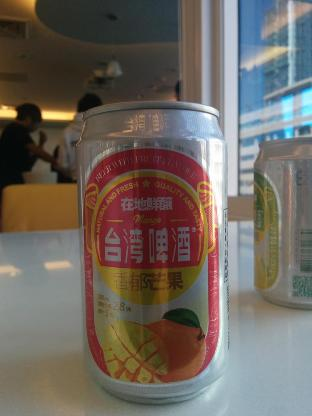Can: (72, 96, 238, 410)
